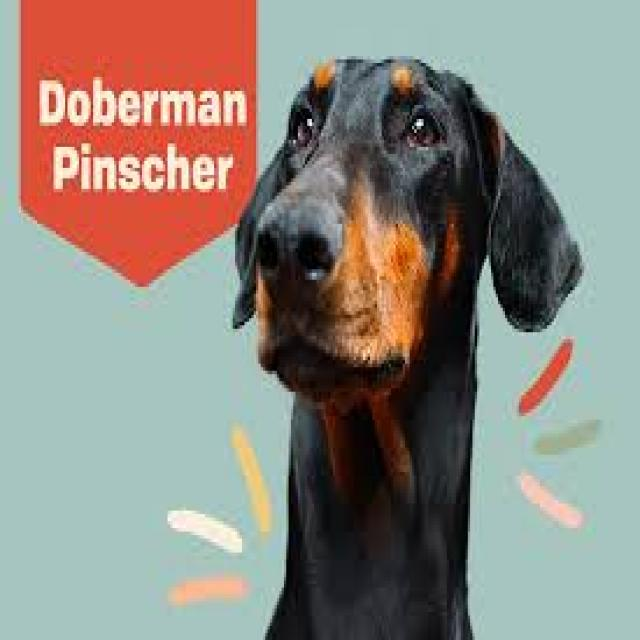Dog: (225, 44, 588, 640)
